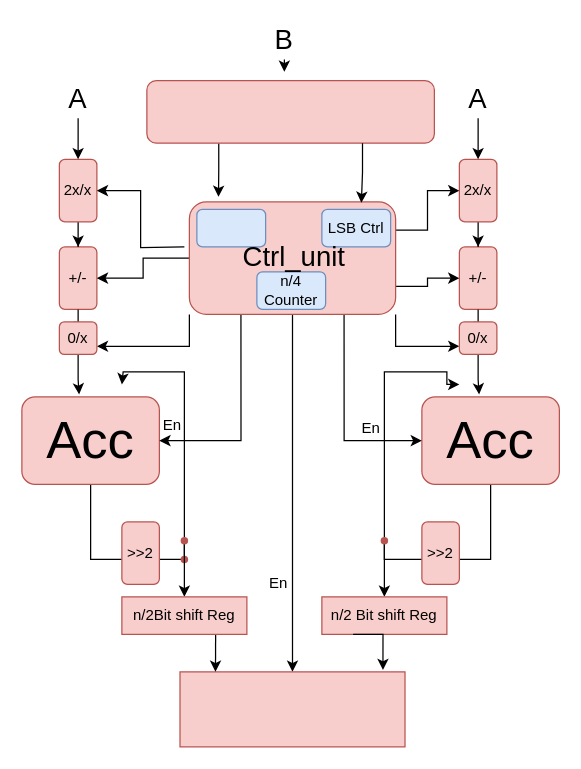
The diagram is 581 pixels wide and 769 high, and some of its shapes have lost their labels. Here are the shapes that lost their labels. From the top down, the box of each, then its label:
(146, 79, 434, 143): Mod_Booth_Enc
(196, 208, 266, 247): MSB Ctrl
(179, 671, 405, 747): N Bit Adder
